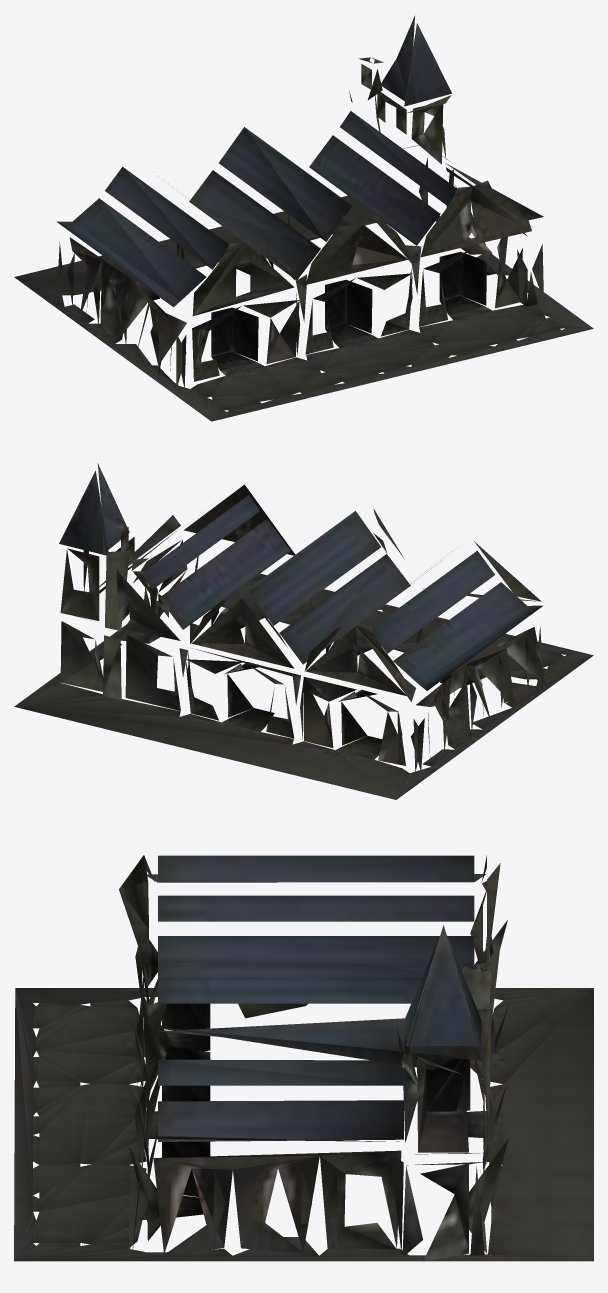
The model's file is slaughter.glb.
3 renders of one model, top to bottom at view 1: azimuth 30°, elevation 25°; view 2: azimuth 150°, elevation 25°; view 3: azimuth 270°, elevation 25°, orthographic. The views are drawn at different scales.
Parts seen in each view (by area): view 1: tripo_node_c2dae393-077c-45b7-8a61-5d089; view 2: tripo_node_c2dae393-077c-45b7-8a61-5d089; view 3: tripo_node_c2dae393-077c-45b7-8a61-5d089.
Boxes of the visible parts, x1,y1,x2,y2 form: tripo_node_c2dae393-077c-45b7-8a61-5d089: (14, 16, 593, 421); tripo_node_c2dae393-077c-45b7-8a61-5d089: (14, 463, 593, 799); tripo_node_c2dae393-077c-45b7-8a61-5d089: (14, 855, 593, 1261).
Bounding box in the file's own units: 35.21 × 19.46 × 30.85.
Materials: 1 (1 with a texture image).
